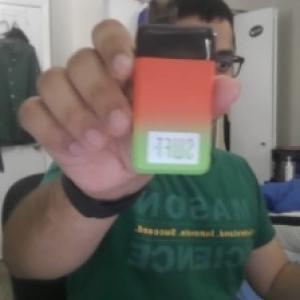Swift-E-Ciggirate: (124, 1, 223, 180)
